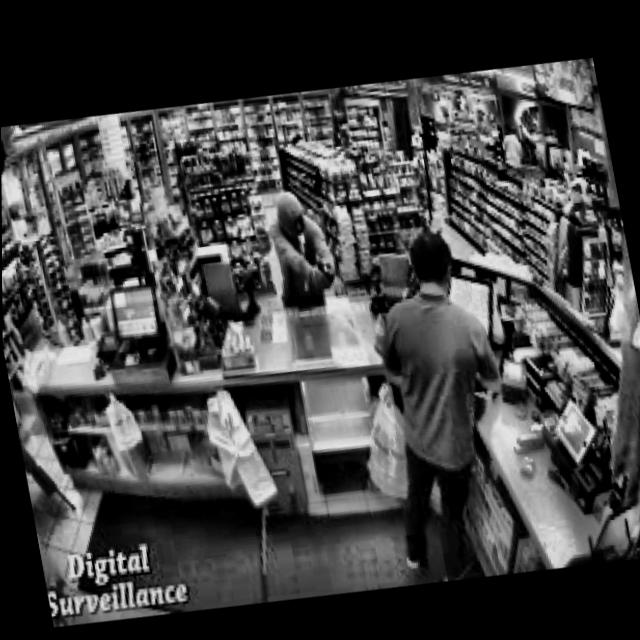robbery: (255, 177, 351, 315)
